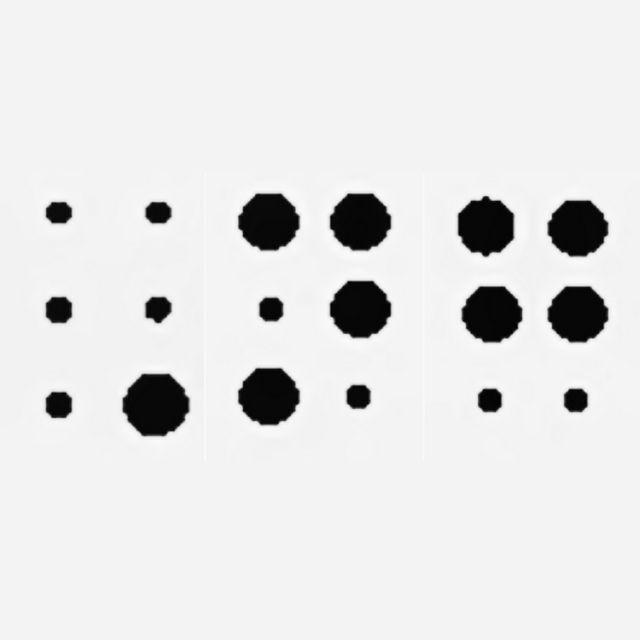G: (458, 198, 611, 432)
N: (236, 193, 394, 426)
capital: (34, 193, 191, 435)
